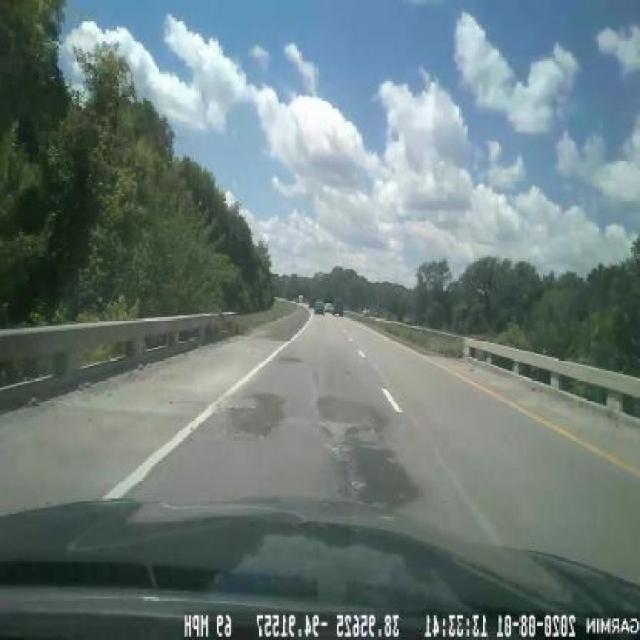pothole: (322, 409, 427, 512), (213, 379, 293, 450)
